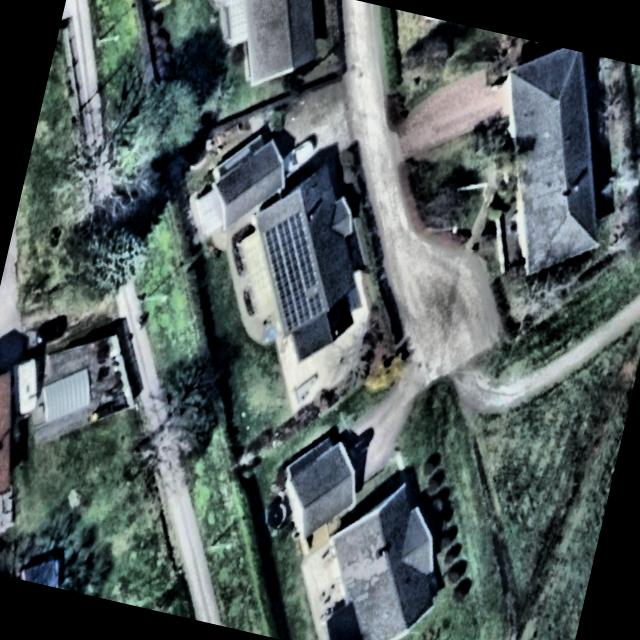roof_pv: (250, 252, 336, 342), (260, 204, 324, 264)
